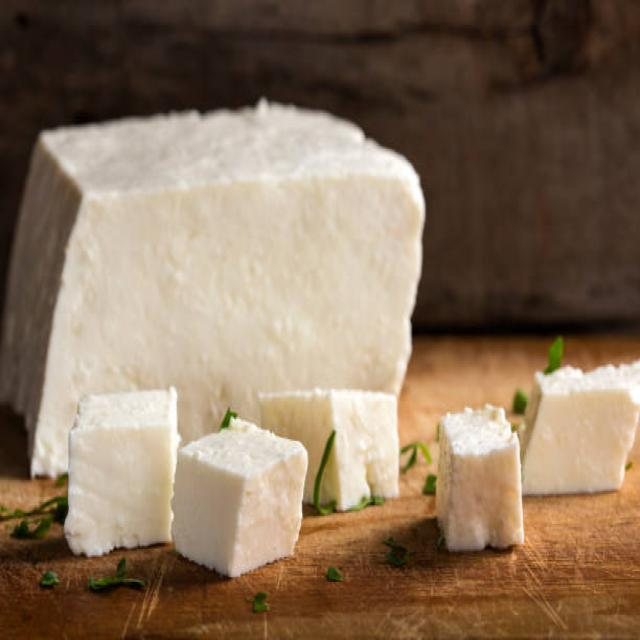tofu: (27, 93, 430, 371), (179, 422, 307, 576), (66, 385, 170, 553), (535, 374, 640, 492), (437, 412, 520, 554)
